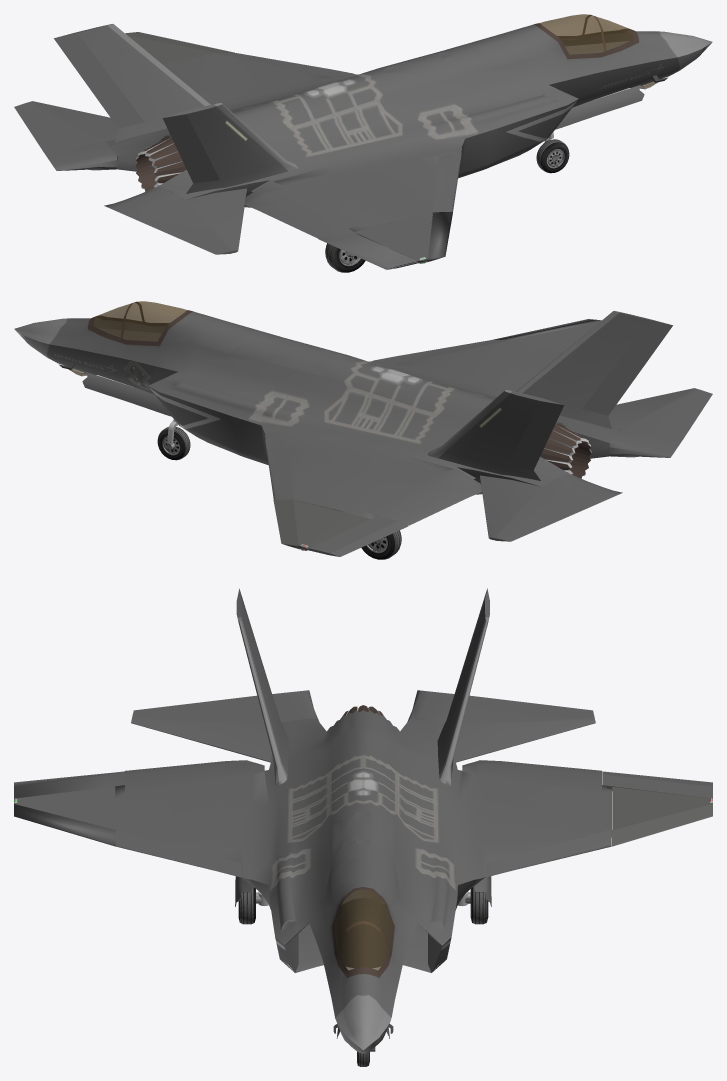
The picture shows the model from 3 angles, top to bottom: view 1: azimuth 30°, elevation 25°; view 2: azimuth 150°, elevation 25°; view 3: azimuth 270°, elevation 25°; orthographic projection. The views are drawn at different scales.
Visible parts, largest first — view 1: fuselage, vertStab, rightElevator, leftElevator, rightFlaperon, canopy, leftRudder, fuselage.003, topLiftDoor, rightRudder, rightFlaperon.001, rightNoseDoor (+8 smaller); view 2: fuselage, vertStab, leftElevator, rightElevator, leftFlaperon, canopy, rightRudder, topLiftDoor, fuselage.002, leftRudder, rightFlaperon.002, leftNoseDoor (+8 smaller); view 3: fuselage, leftElevator, rightElevator, vertStab, canopy, rightFlaperon, leftFlaperon, fuselage.003, fuselage.002, topLiftDoor, leftSlat, rightSlat (+6 smaller).
Part boxes in pixels (left/top/right/bottom): fuselage: left=106, top=24, right=712, bottom=231; vertStab: left=76, top=24, right=298, bottom=193; rightElevator: left=104, top=186, right=246, bottom=254; leftElevator: left=14, top=101, right=118, bottom=170; rightFlaperon: left=245, top=181, right=363, bottom=238; canopy: left=534, top=14, right=639, bottom=59; leftRudder: left=54, top=32, right=144, bottom=128; fuselage.003: left=354, top=212, right=433, bottom=263; topLiftDoor: left=467, top=25, right=549, bottom=67; rightRudder: left=162, top=111, right=219, bottom=183; rightFlaperon.001: left=318, top=229, right=417, bottom=269; rightNoseDoor: left=555, top=85, right=644, bottom=129; fuselage: left=14, top=311, right=620, bottom=518; vertStab: left=428, top=311, right=650, bottom=480; leftElevator: left=480, top=473, right=622, bottom=541; rightElevator: left=608, top=388, right=712, bottom=457; leftFlaperon: left=363, top=468, right=481, bottom=525; canopy: left=87, top=301, right=192, bottom=346; rightRudder: left=582, top=319, right=672, bottom=415; topLiftDoor: left=177, top=312, right=259, bottom=354; fuselage.002: left=293, top=500, right=370, bottom=550; leftRudder: left=507, top=398, right=564, bottom=470; rightFlaperon.002: left=308, top=516, right=408, bottom=556; leftNoseDoor: left=82, top=372, right=171, bottom=416; fuselage: left=115, top=710, right=611, bottom=1053; leftElevator: left=408, top=690, right=595, bottom=762; rightElevator: left=131, top=690, right=318, bottom=762; vertStab: left=236, top=600, right=489, bottom=785; canopy: left=332, top=887, right=394, bottom=977; rightFlaperon: left=125, top=760, right=264, bottom=793; leftFlaperon: left=462, top=760, right=601, bottom=792; fuselage.003: left=14, top=786, right=115, bottom=829; fuselage.002: left=612, top=787, right=712, bottom=829; topLiftDoor: left=330, top=857, right=396, bottom=905; leftSlat: left=485, top=830, right=611, bottom=877; rightSlat: left=116, top=830, right=240, bottom=877.
Size of the model in its own units: 18.48 by 5.66 by 15.54.
Materials: 9 (2 with a texture image).
